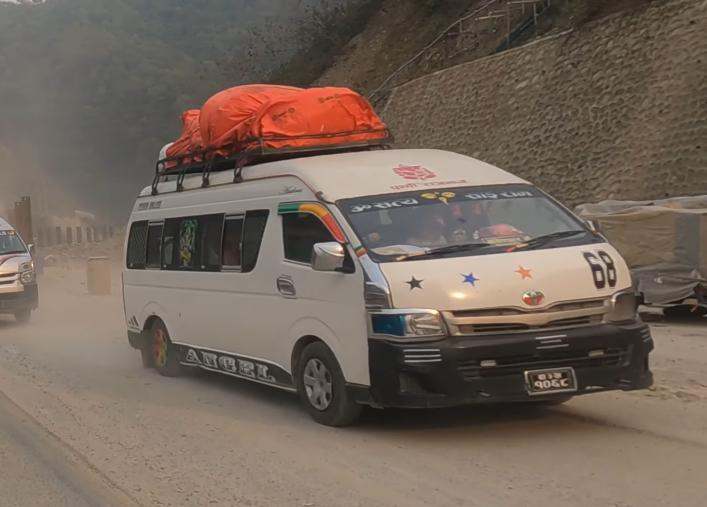micro_bus: (119, 127, 660, 437), (0, 215, 40, 334)
